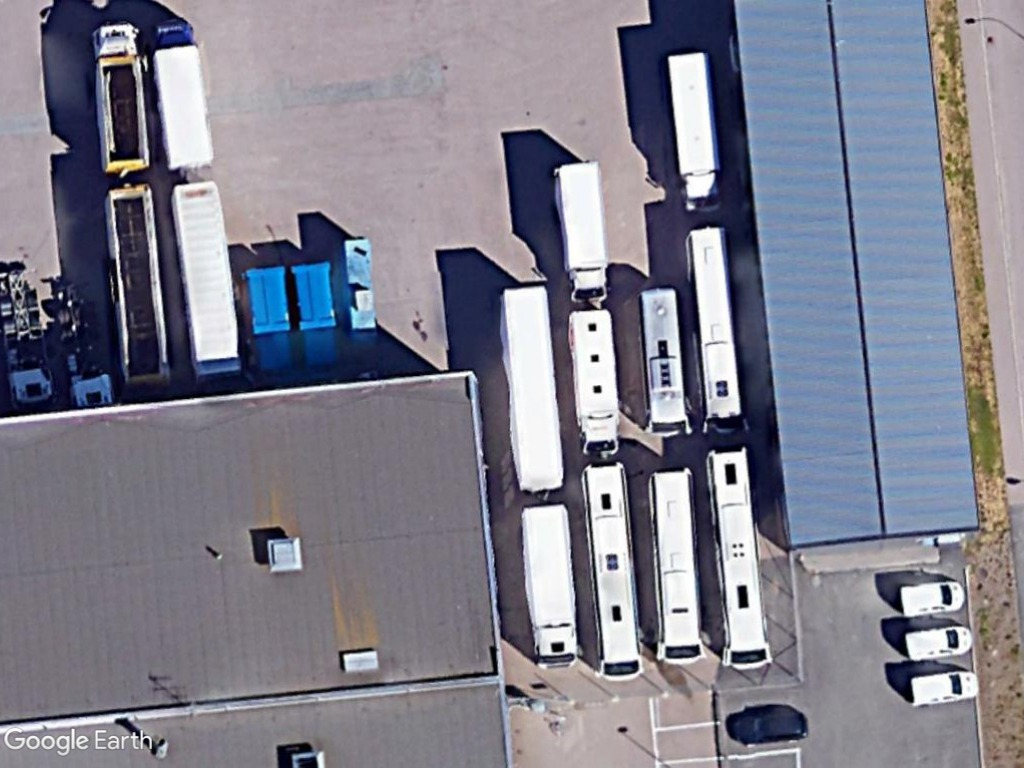bus: (703, 444, 774, 673), (579, 460, 649, 686), (684, 224, 748, 435), (646, 463, 709, 668), (636, 285, 691, 442)
other: (90, 21, 150, 177)
truck: (661, 46, 729, 217), (514, 498, 582, 669), (145, 14, 217, 174), (562, 308, 627, 457), (548, 157, 611, 301)
van: (895, 577, 969, 622), (902, 622, 976, 667), (904, 669, 983, 710)
